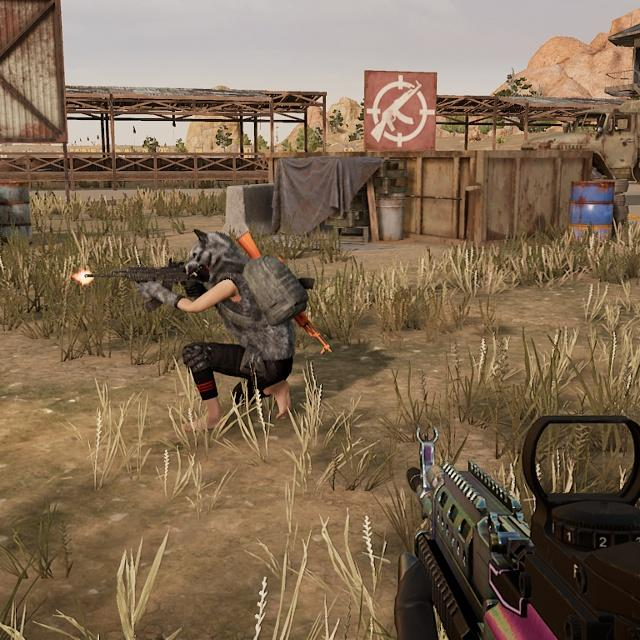head: (183, 230, 240, 289)
people: (155, 224, 314, 439)
